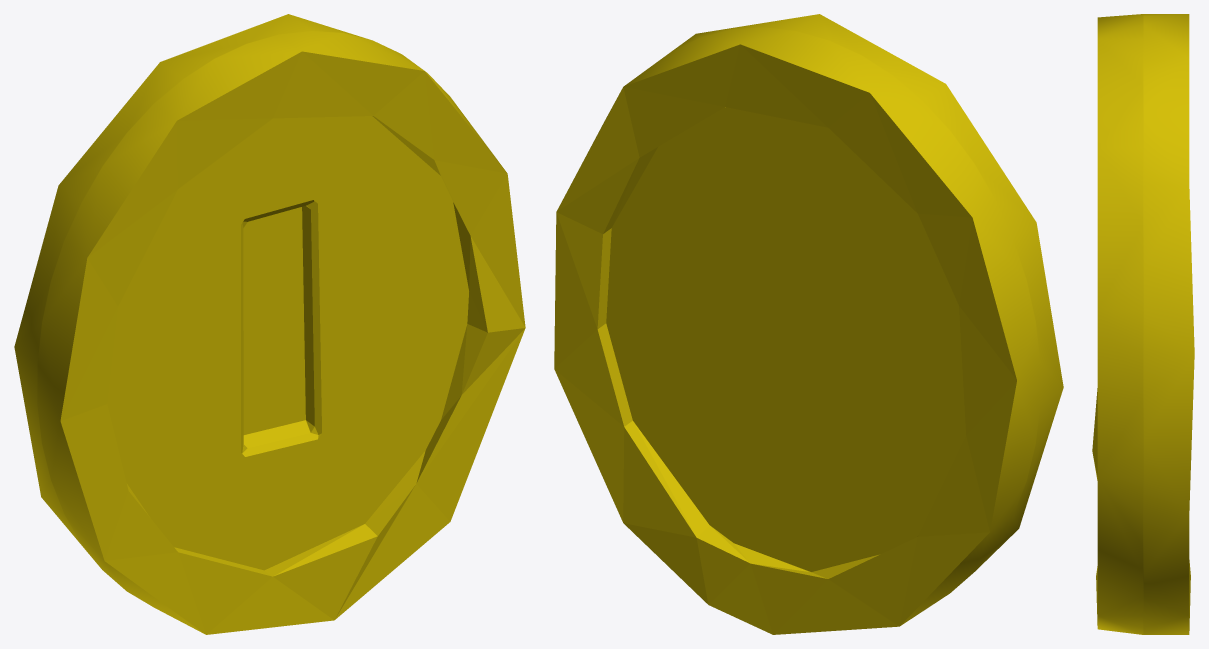
The model's file is coin.FBX.
The picture shows the model from 3 angles, left to right: view 1: azimuth 30°, elevation 25°; view 2: azimuth 150°, elevation 25°; view 3: azimuth 270°, elevation 25°; orthographic projection.
Visible parts, largest first — view 1: Cylinder01; view 2: Cylinder01; view 3: Cylinder01.
Boxes of the visible parts, bbox=[...] form: Cylinder01: bbox=[14, 14, 525, 634]; Cylinder01: bbox=[554, 14, 1063, 634]; Cylinder01: bbox=[1092, 14, 1194, 634].
Bounding box in the file's own units: 75.89 × 90.17 × 14.47.
